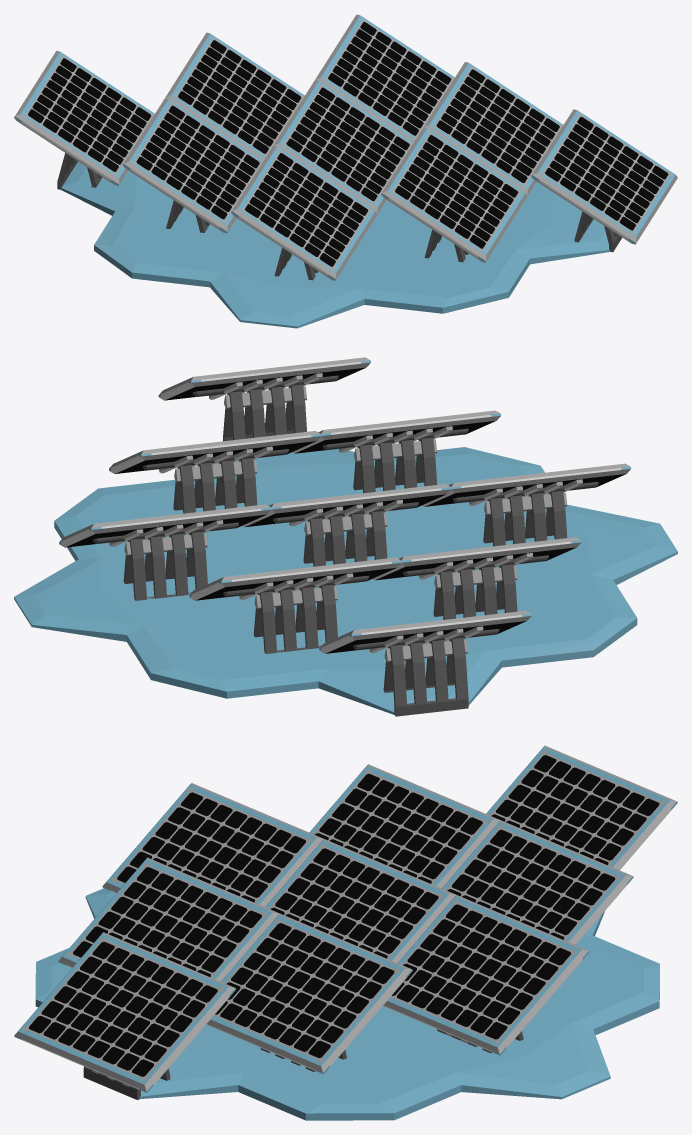
The model's file is EnergyFarm_v2.gltf.
The picture shows the model from 3 angles, top to bottom: view 1: azimuth 30°, elevation 25°; view 2: azimuth 150°, elevation 25°; view 3: azimuth 270°, elevation 25°; orthographic projection. The views are drawn at different scales.
Visible parts, largest first — view 1: WhiteColor, PlayerColor; view 2: WhiteColor, PlayerColor; view 3: WhiteColor, PlayerColor.
Boxes of the visible parts, x1=… form: WhiteColor: x1=14, y1=14, x2=677, y2=280; PlayerColor: x1=14, y1=15, x2=675, y2=328; WhiteColor: x1=60, y1=357, x2=630, y2=716; PlayerColor: x1=14, y1=360, x2=677, y2=714; WhiteColor: x1=14, y1=745, x2=676, y2=1099; PlayerColor: x1=14, y1=747, x2=677, y2=1120.
Size of the model in its own units: 0.8451 by 0.1479 by 0.8451.
